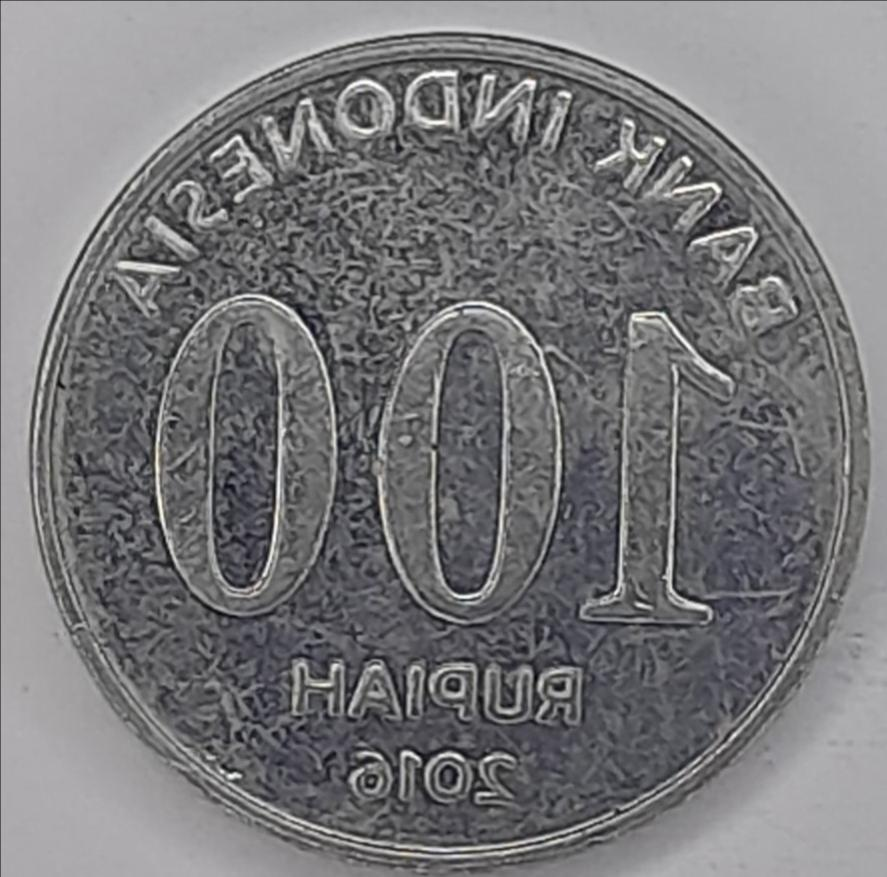coin_100_e2016: (24, 25, 877, 875)
